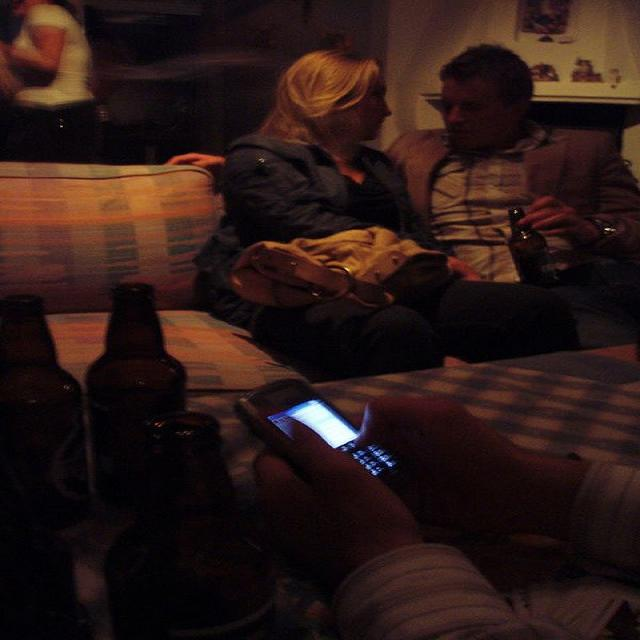Bottle: (95, 411, 286, 640), (79, 278, 205, 498), (0, 279, 96, 530), (0, 472, 104, 640), (492, 202, 570, 290)
People: (195, 40, 578, 393), (225, 365, 640, 640), (393, 22, 640, 345), (0, 1, 123, 158)
